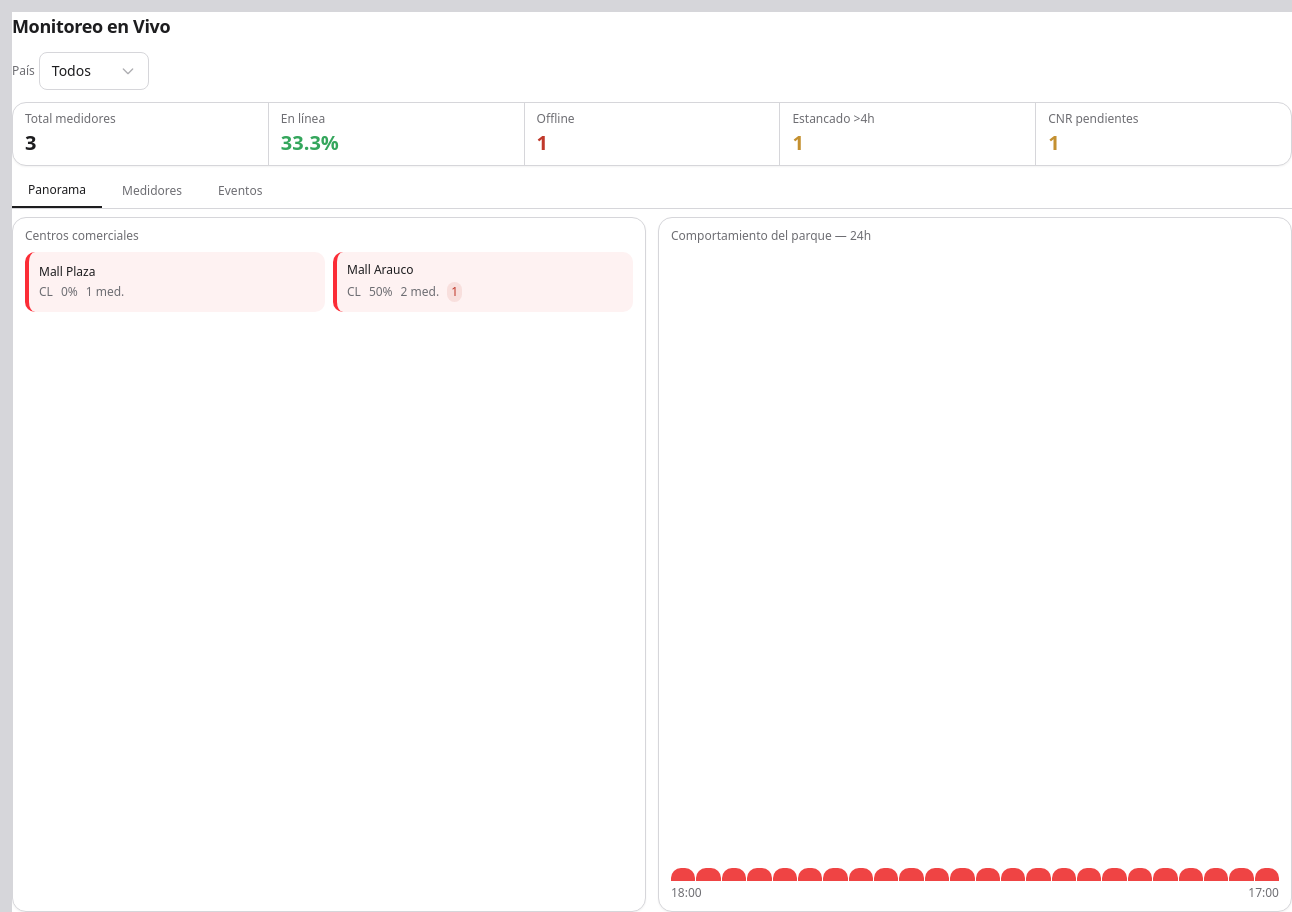
Scenario: MonitoreoVivoPage › tabs › shows eventos tab content on click
Click the button "Eventos" at [240, 191], box [202,174,278,208]
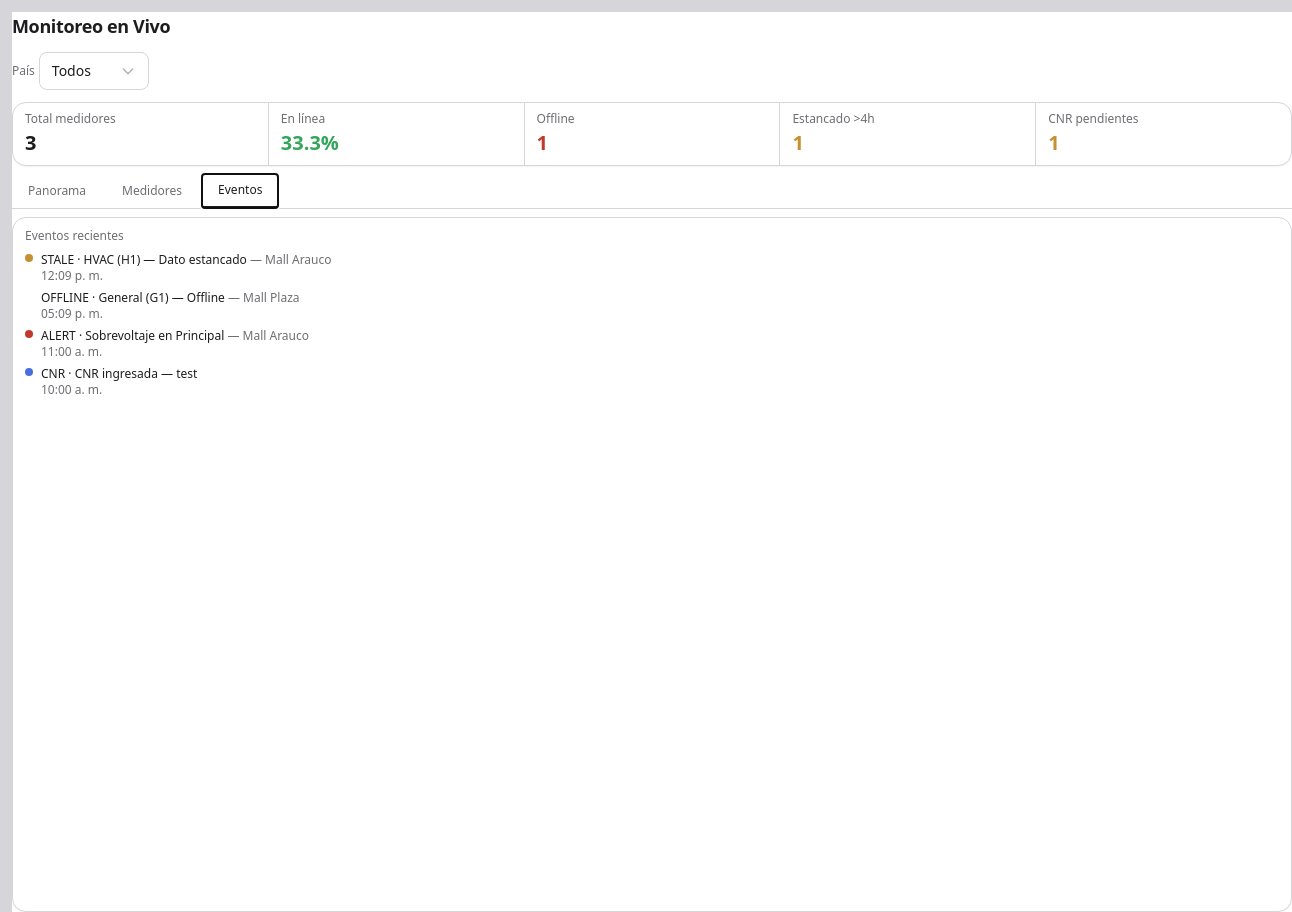
Expected: the text "Eventos recientes" is shown, [25,227,124,244]
